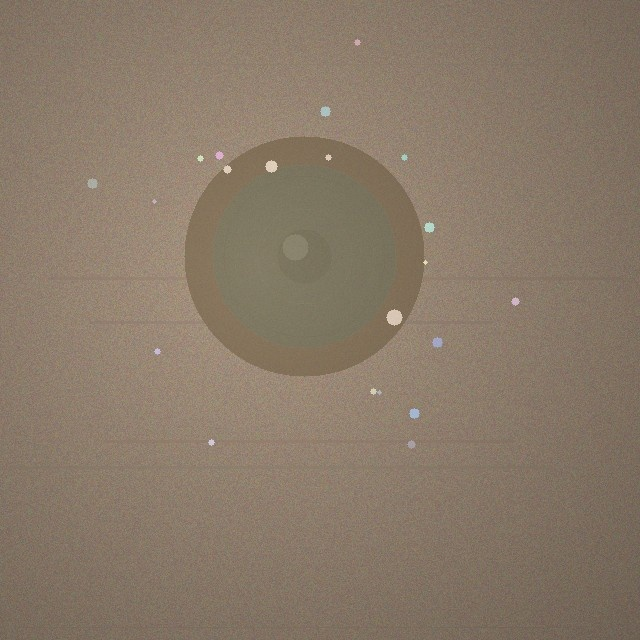overburn: (184, 136, 424, 376)
